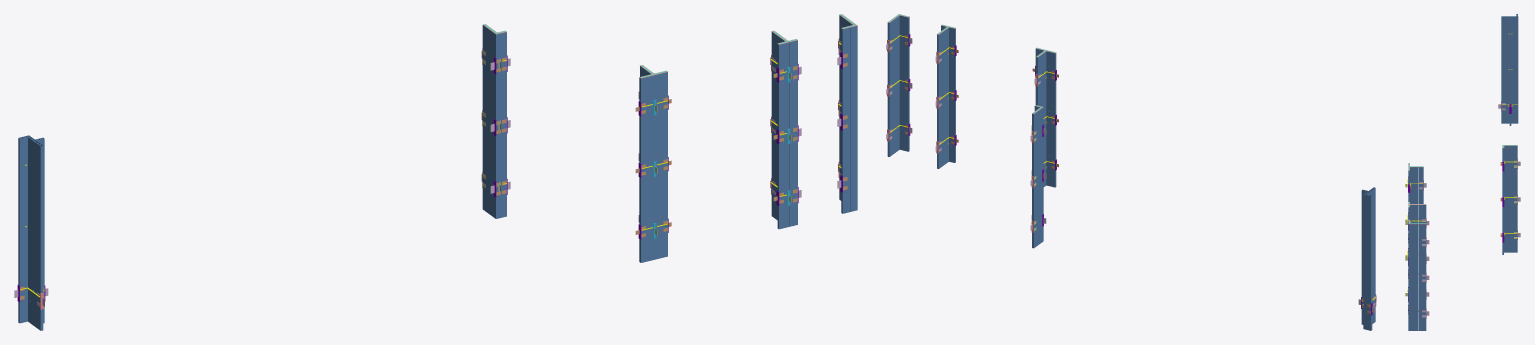
3 views of the same model, side by side, from view 1: azimuth 30°, elevation 25°; view 2: azimuth 150°, elevation 25°; view 3: azimuth 270°, elevation 25° (orthographic). The views are drawn at different scales.
Parts seen in each view (by area): view 1: 18-5GSQ[1WKg2g002ALZ4sCJOmDJOm], 18-5GSQ[1WKg2g002C1Z4sCJOmDJOm], 18-5GSQ[1WL3xd001I9p4sCJOnD30n], 18-5GSQ[1WL3xd0027oJ4sCJOnD34r], 18-5GSQ[1WL3xd002Mfp4sCJOnD34u], 18-5GSQ[1WL3xd002NGJ4sCJOnD34u], 18-5GSQ[1WL3xd002N8p4sCJOnD34u], 18-5GSQ[1WL3xd001J4Z4sCJOnD30n], 18-5GSQ[1WL3xd00289p4sCJOnD34r], 18-5GSQ[1WL3xd000_n34sCJOnCpat], 18-5GSQ[1WL3xd0029834sCJOnD34r], 18-5GSQ[1WL3xd000$JZ4sCJOnCpat] (+7 smaller); view 2: 18-5GSQ[1WKg2g002ALZ4sCJOmDJOm], 18-5GSQ[1WL3xd002Mfp4sCJOnD34u], 18-5GSQ[1WL3xd001I9p4sCJOnD30n], 18-5GSQ[1WL3xd002OJp4sCJOnD34u], 18-5GSQ[1WL3xd002NGJ4sCJOnD34u], 18-5GSQ[1WL3xd001J4Z4sCJOnD30n], 18-5GSQ[1WL3xd002N8p4sCJOnD34u], 18-5GSQ[1WL3xd001Iqp4sCJOnD30n], 18-5GSQ[1WL3xd0027oJ4sCJOnD34r], 18-5GSQ[1WL3xd0010lZ4sCJOnCpat], 18-5GSQ[1WL3xd002AQ34sCJOnD34s], 18-5GSQ[1WKg2g002ADp4sCJOmDJOm] (+8 smaller); view 3: 18-5GSQ[1WKg2g002As34sCJOmDJOm], 18-5GSQ[1WL3xd002Ncp4sCJOnD34u], 18-5GSQ[1WL3xd0010IZ4sCJOnCpat], 18-5GSQ[1WL3xd0010SZ4sCJOnCpat], 18-5GSQ[1WKg2g002C1Z4sCJOmDJOm], 18-5GSQ[1WL3xd002OJp4sCJOnD34u], 18-5GSQ[1WKg2g002A634sCJOmDJOm], 18-5GSQ[1WKg2g002Cn34sCJOmDJOm], 18-5GSQ[1WKg2g002B434sCJOmDJOm], 18-5GSQ[1WKg2g002CYZ4sCJOmDJOm], 18-5GSQ[1WL3xd002Nmp4sCJOnD34u], 18-5GSQ[1WL3xd002Nwp4sCJOnD34u] (+13 smaller).
Part boxes in pixels (x1,y1,x2,y2): 18-5GSQ[1WKg2g002ALZ4sCJOmDJOm]: [18, 137, 23, 323]; 18-5GSQ[1WKg2g002C1Z4sCJOmDJOm]: [38, 144, 43, 330]; 18-5GSQ[1WL3xd001I9p4sCJOnD30n]: [639, 78, 644, 262]; 18-5GSQ[1WL3xd0027oJ4sCJOnD34r]: [777, 44, 782, 229]; 18-5GSQ[1WL3xd002Mfp4sCJOnD34u]: [841, 28, 846, 213]; 18-5GSQ[1WL3xd002NGJ4sCJOnD34u]: [850, 26, 854, 211]; 18-5GSQ[1WL3xd002N8p4sCJOnD34u]: [846, 27, 850, 212]; 18-5GSQ[1WL3xd001J4Z4sCJOnD30n]: [649, 76, 653, 260]; 18-5GSQ[1WL3xd00289p4sCJOnD34r]: [783, 43, 787, 228]; 18-5GSQ[1WL3xd000_n34sCJOnCpat]: [502, 32, 506, 217]; 18-5GSQ[1WL3xd0029834sCJOnD34r]: [789, 41, 793, 226]; 18-5GSQ[1WL3xd000$JZ4sCJOnCpat]: [498, 33, 502, 218]; 18-5GSQ[1WKg2g002ALZ4sCJOmDJOm]: [1368, 195, 1372, 330]; 18-5GSQ[1WL3xd002Mfp4sCJOnD34u]: [905, 17, 909, 151]; 18-5GSQ[1WL3xd001I9p4sCJOnD30n]: [1052, 53, 1056, 187]; 18-5GSQ[1WL3xd002OJp4sCJOnD34u]: [887, 22, 891, 156]; 18-5GSQ[1WL3xd002NGJ4sCJOnD34u]: [899, 15, 902, 150]; 18-5GSQ[1WL3xd001J4Z4sCJOnD30n]: [1046, 51, 1049, 185]; 18-5GSQ[1WL3xd002N8p4sCJOnD34u]: [902, 16, 905, 150]; 18-5GSQ[1WL3xd001Iqp4sCJOnD30n]: [1049, 52, 1052, 186]; 18-5GSQ[1WL3xd0027oJ4sCJOnD34r]: [952, 28, 955, 162]; 18-5GSQ[1WL3xd0010lZ4sCJOnCpat]: [1032, 113, 1035, 248]; 18-5GSQ[1WL3xd002AQ34sCJOnD34s]: [937, 34, 940, 168]; 18-5GSQ[1WKg2g002ADp4sCJOmDJOm]: [1365, 194, 1368, 329]; 18-5GSQ[1WKg2g002As34sCJOmDJOm]: [1513, 16, 1516, 123]; 18-5GSQ[1WL3xd002Ncp4sCJOnD34u]: [1412, 224, 1415, 330]; 18-5GSQ[1WL3xd0010IZ4sCJOnCpat]: [1506, 146, 1509, 252]; 18-5GSQ[1WL3xd0010SZ4sCJOnCpat]: [1509, 146, 1512, 252]; 18-5GSQ[1WKg2g002C1Z4sCJOmDJOm]: [1501, 16, 1504, 123]; 18-5GSQ[1WL3xd002OJp4sCJOnD34u]: [1423, 224, 1426, 330]; 18-5GSQ[1WKg2g002A634sCJOmDJOm]: [1516, 16, 1518, 123]; 18-5GSQ[1WKg2g002Cn34sCJOmDJOm]: [1507, 16, 1509, 123]; 18-5GSQ[1WKg2g002B434sCJOmDJOm]: [1511, 16, 1513, 123]; 18-5GSQ[1WKg2g002CYZ4sCJOmDJOm]: [1504, 16, 1506, 123]; 18-5GSQ[1WL3xd002Nmp4sCJOnD34u]: [1415, 224, 1417, 330]; 18-5GSQ[1WL3xd002Nwp4sCJOnD34u]: [1418, 224, 1420, 330].
Bounding box in the file's own units: 36.91 × 8.7 × 8.51.
